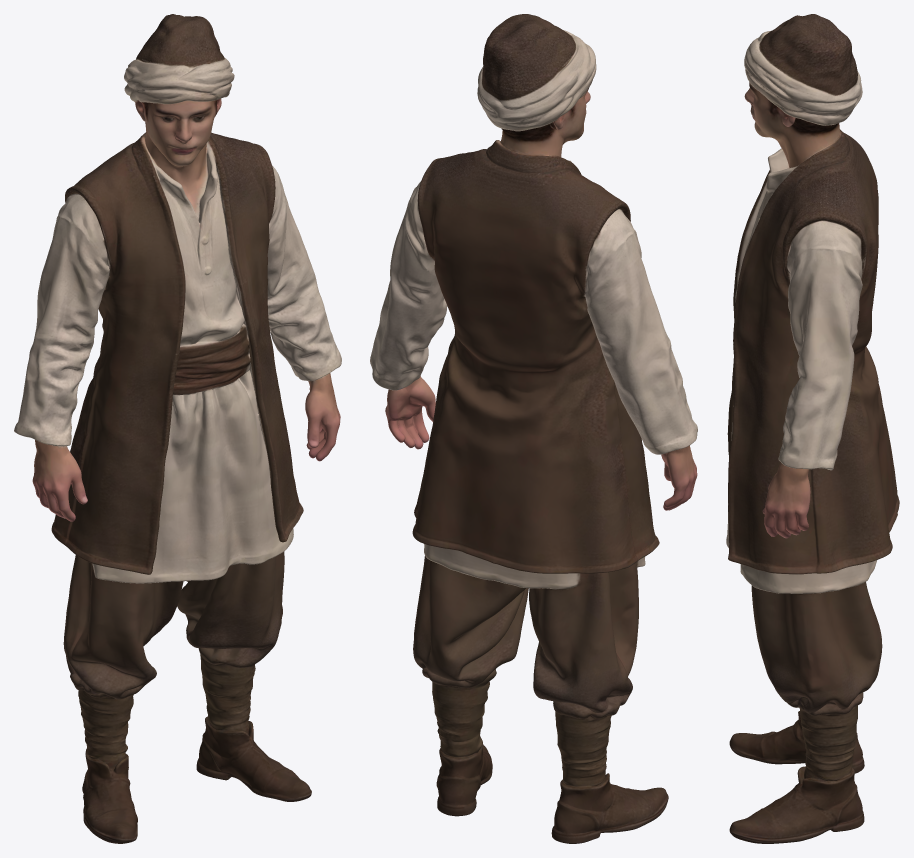
File: acemi-ocagi-1550-1600-tripo-v1.glb
The picture shows the model from 3 angles, left to right: view 1: azimuth 30°, elevation 25°; view 2: azimuth 150°, elevation 25°; view 3: azimuth 270°, elevation 25°; orthographic projection.
Visible parts, largest first — view 1: tripo_node_73106842-80d7-4a66-8d4f-c95183ab96ee; view 2: tripo_node_73106842-80d7-4a66-8d4f-c95183ab96ee; view 3: tripo_node_73106842-80d7-4a66-8d4f-c95183ab96ee.
Boxes of the visible parts, <box> form: tripo_node_73106842-80d7-4a66-8d4f-c95183ab96ee: <box>14,14,341,843</box>; tripo_node_73106842-80d7-4a66-8d4f-c95183ab96ee: <box>370,14,697,843</box>; tripo_node_73106842-80d7-4a66-8d4f-c95183ab96ee: <box>726,14,899,843</box>.
Size of the model in its own units: 0.4306 by 1 by 0.2015.
Materials: 1 (1 with a texture image).
